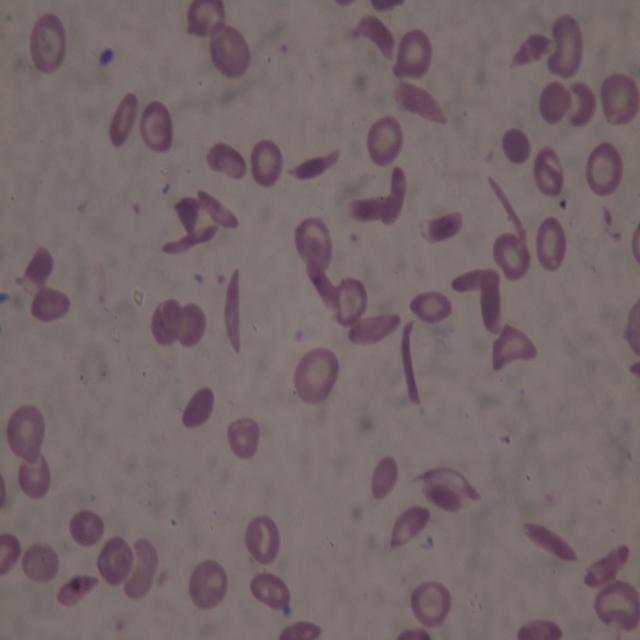Crystal: (582, 542, 631, 589), (106, 90, 139, 150), (378, 163, 407, 227), (479, 264, 503, 338), (419, 211, 463, 246), (449, 267, 500, 294), (348, 198, 402, 222), (511, 619, 564, 640), (276, 618, 326, 640)
Normal: (293, 346, 339, 406), (6, 403, 45, 466), (586, 143, 624, 195), (366, 116, 404, 166), (493, 232, 530, 283), (410, 582, 450, 626), (251, 138, 282, 187)
Others: (546, 13, 584, 79), (491, 324, 538, 374), (210, 24, 252, 78), (123, 537, 159, 600), (593, 580, 638, 630), (29, 14, 66, 74), (95, 534, 133, 587), (601, 72, 639, 125), (393, 27, 433, 77), (189, 560, 228, 611), (20, 539, 60, 584), (245, 514, 281, 564), (140, 100, 174, 152), (536, 215, 566, 272), (333, 278, 368, 326), (248, 571, 290, 610), (22, 245, 55, 294), (152, 297, 185, 346), (18, 451, 52, 497), (206, 142, 246, 180), (408, 291, 454, 323), (420, 482, 466, 514), (534, 148, 564, 196), (538, 82, 572, 124), (227, 417, 260, 460), (564, 82, 596, 126), (187, 1, 225, 38), (32, 287, 71, 323), (176, 302, 205, 348), (180, 388, 213, 428), (70, 508, 104, 546), (175, 194, 203, 237), (500, 126, 530, 164), (370, 456, 397, 498), (0, 532, 22, 579), (625, 297, 639, 356), (395, 626, 436, 640), (629, 222, 640, 268), (369, 0, 405, 12), (0, 470, 8, 507)
Sickle: (484, 175, 531, 247), (389, 80, 452, 127), (518, 518, 580, 565), (412, 463, 483, 504), (303, 245, 340, 310), (350, 11, 396, 62), (387, 504, 432, 552), (160, 222, 221, 256), (400, 318, 422, 407), (347, 311, 401, 347), (196, 187, 241, 230), (506, 31, 554, 71), (284, 149, 342, 182), (224, 266, 243, 356), (56, 570, 101, 608), (629, 360, 640, 376)
Target: (295, 214, 332, 270)
